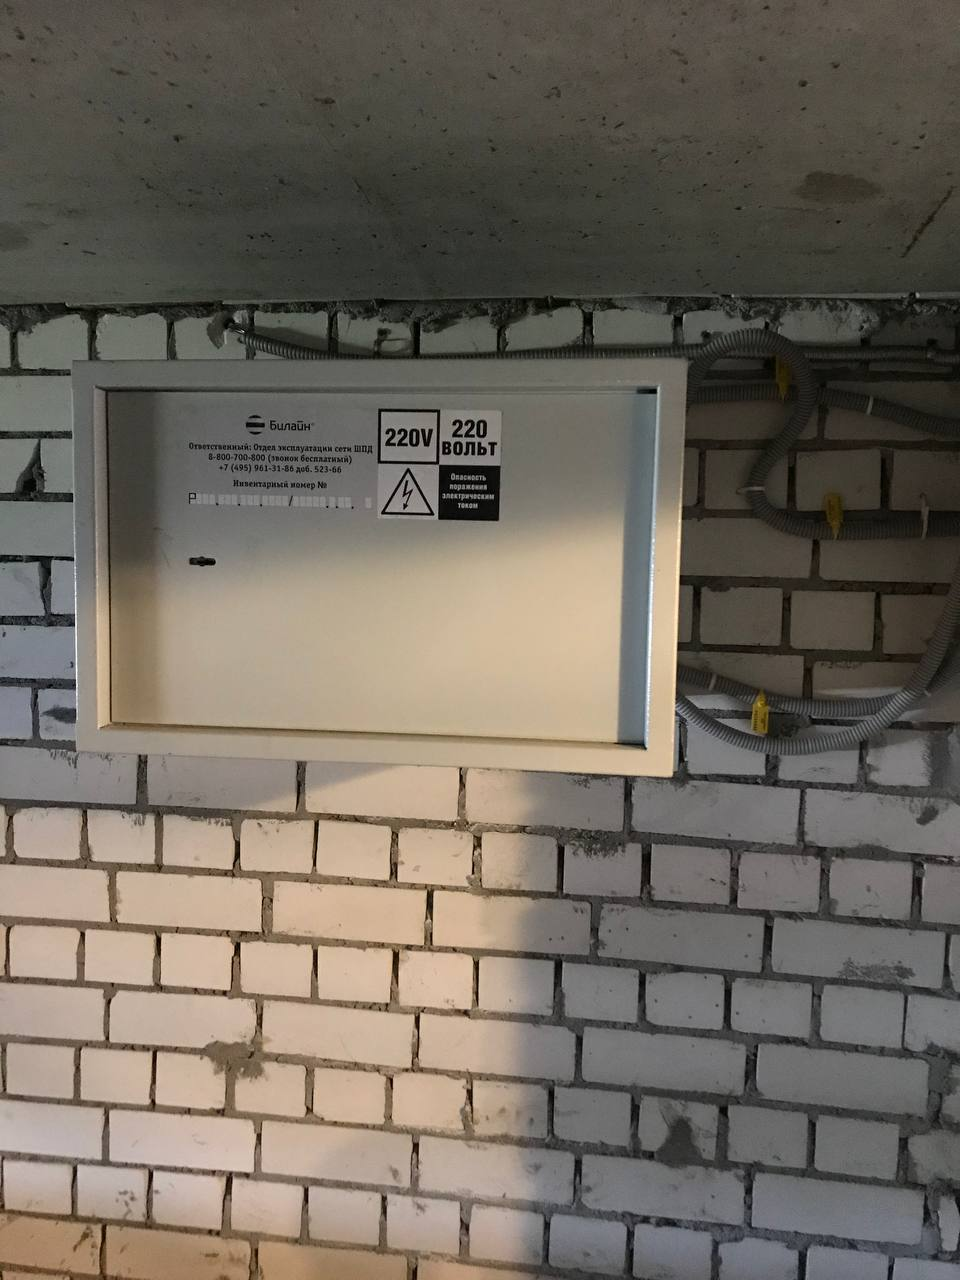shta-7m: (64, 349, 699, 788)
